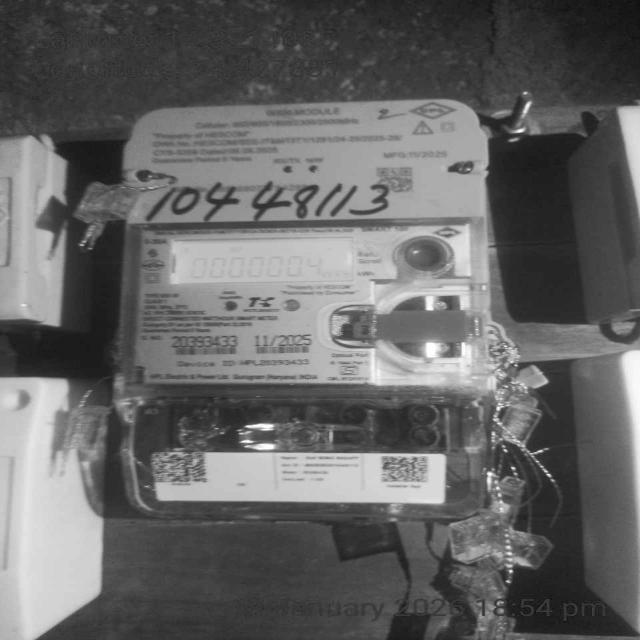meter: (126, 102, 488, 394)
